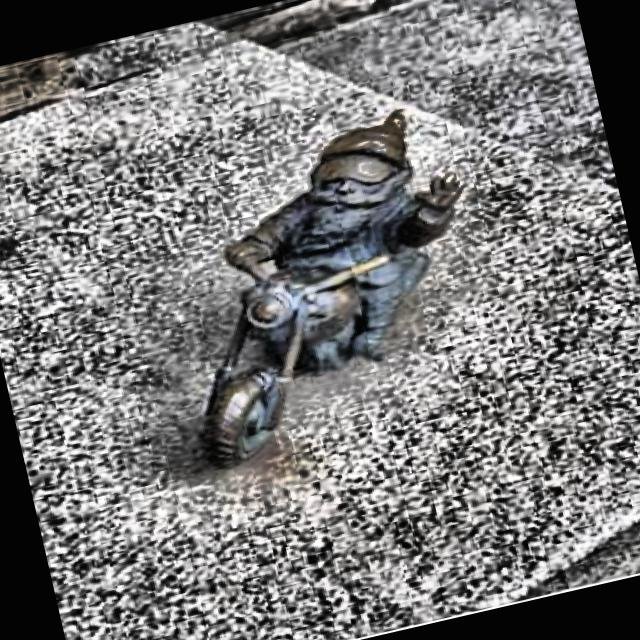Wentyl: (204, 110, 461, 462)
